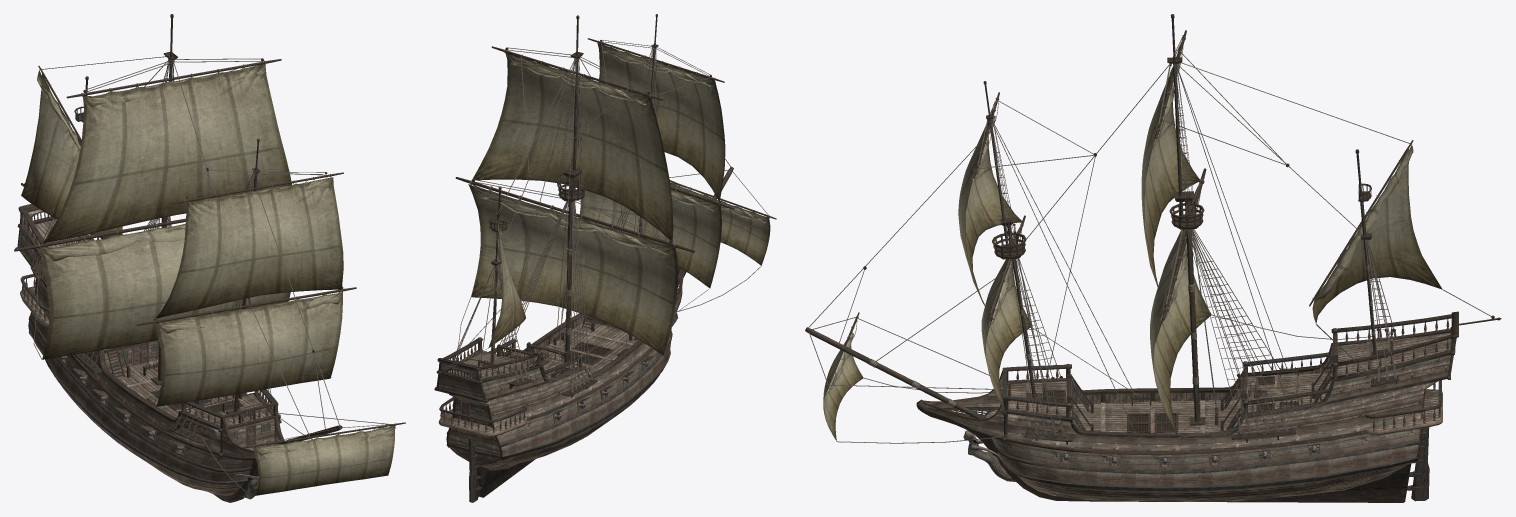
Rendered from Galleon_LOD0.fbx.
The picture shows the model from 3 angles, left to right: view 1: azimuth 30°, elevation 25°; view 2: azimuth 150°, elevation 25°; view 3: azimuth 270°, elevation 25°; orthographic projection. The views are drawn at different scales.
Visible parts, largest first — view 1: sails1, sails2, burty, polySurface2092, sails_close, maszty1, lines3, poklad, polySurface1953, okna_drzwi, barierki, parapety (+2 smaller); view 2: sails1, sails2, burty, lines3, polySurface2092, maszty1, sails_close, poklad, polySurface1953, barierki, polySurface974, polySurface2093 (+5 smaller); view 3: burty, sails1, polySurface2092, lines3, maszty1, poklad, sails2, polySurface1953, polySurface974, sails_close, barierki, polySurface2093 (+6 smaller).
Boxes of the visible parts, x1,y1,x2,y2 form: sails1: [21, 64, 394, 495]; sails2: [22, 65, 394, 495]; burty: [20, 209, 281, 481]; polySurface2092: [15, 204, 284, 484]; sails_close: [37, 65, 395, 455]; maszty1: [14, 14, 405, 448]; lines3: [31, 55, 395, 447]; poklad: [20, 219, 274, 450]; polySurface1953: [61, 385, 244, 495]; okna_drzwi: [119, 342, 270, 446]; barierki: [22, 217, 272, 425]; parapety: [30, 263, 281, 444]; sails1: [468, 43, 770, 355]; sails2: [469, 44, 770, 354]; burty: [439, 268, 683, 456]; lines3: [451, 40, 769, 392]; polySurface2092: [434, 267, 685, 465]; maszty1: [439, 14, 776, 373]; sails_close: [474, 44, 769, 291]; poklad: [438, 321, 637, 436]; polySurface1953: [452, 375, 659, 470]; barierki: [440, 337, 582, 432]; polySurface974: [476, 268, 686, 497]; polySurface2093: [463, 325, 633, 378]; burty: [924, 355, 1450, 487]; sails1: [823, 68, 1442, 440]; polySurface2092: [922, 311, 1458, 491]; lines3: [808, 35, 1411, 437]; maszty1: [805, 14, 1501, 421]; poklad: [985, 332, 1450, 435]; sails2: [823, 79, 1440, 439]; polySurface1953: [1017, 461, 1415, 501]; polySurface974: [916, 399, 1411, 502]; sails_close: [825, 46, 1413, 394]; barierki: [1016, 319, 1449, 430]; polySurface2093: [1025, 339, 1393, 432].
Size of the model in its own units: 31.87 by 48.69 by 63.11.
Materials: 9 (9 with a texture image).
